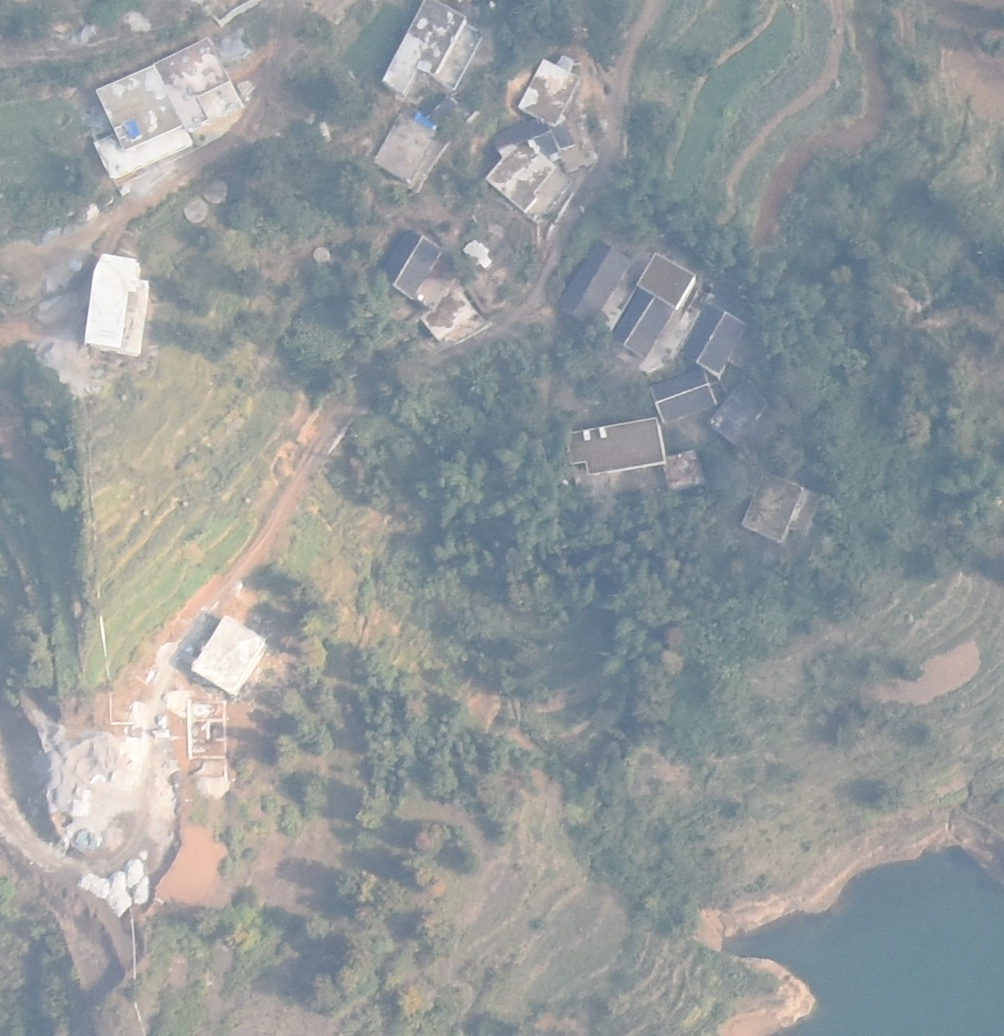building: (87, 39, 244, 180), (382, 1, 485, 101), (83, 253, 150, 357), (191, 613, 268, 695), (559, 238, 630, 325), (743, 467, 817, 545), (565, 417, 665, 474), (680, 302, 749, 377), (375, 113, 441, 189), (483, 144, 556, 209), (610, 287, 675, 353), (520, 57, 581, 125), (712, 382, 770, 446), (649, 369, 718, 422), (635, 250, 698, 308), (491, 119, 562, 160), (424, 290, 478, 340), (663, 450, 707, 491)
well: (385, 229, 441, 299), (181, 194, 208, 222), (202, 179, 228, 204), (313, 246, 331, 263)
